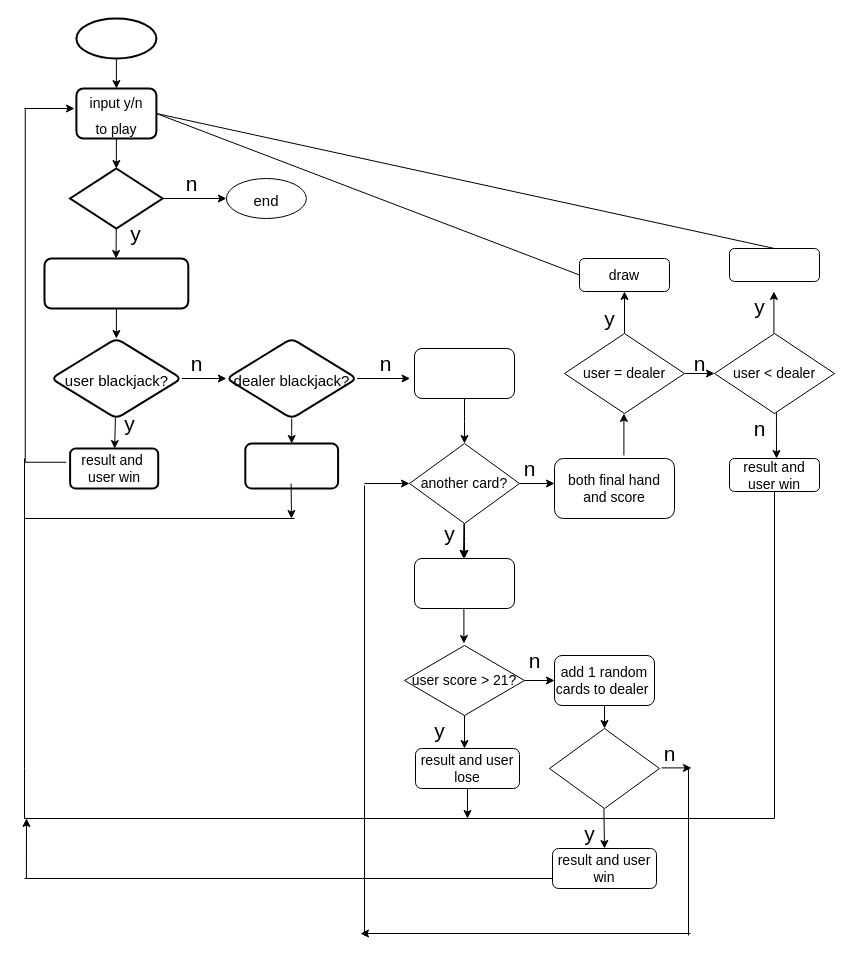
Some shapes in this 852 by 959 pixel diagram are drawn without their labels. The box of each missing label's shape, as (x1, y1, x2, y2) in pixels:
add 1 random cards to user and score: (414, 558, 514, 608)
dealer > 21: (548, 728, 660, 808)
input another card y/n: (414, 348, 514, 398)
play?: (69, 167, 163, 229)
random 2 cards and score user and dealer: (43, 257, 189, 309)
result & user lose: (728, 248, 820, 282)
result and dealer win: (244, 442, 339, 489)
Start: (75, 17, 157, 59)
